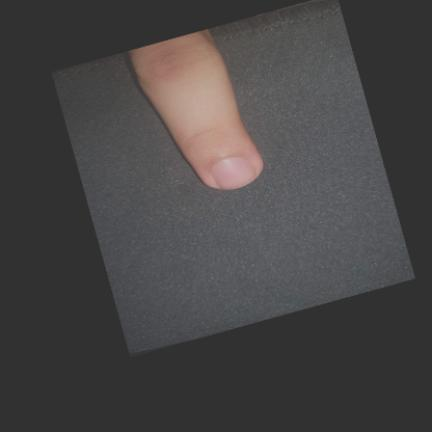Nail: (211, 157, 256, 189)
